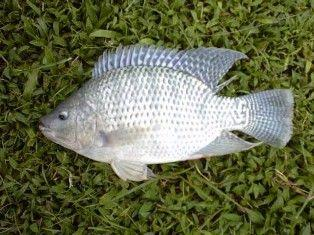Tilapia: (42, 49, 289, 195)
